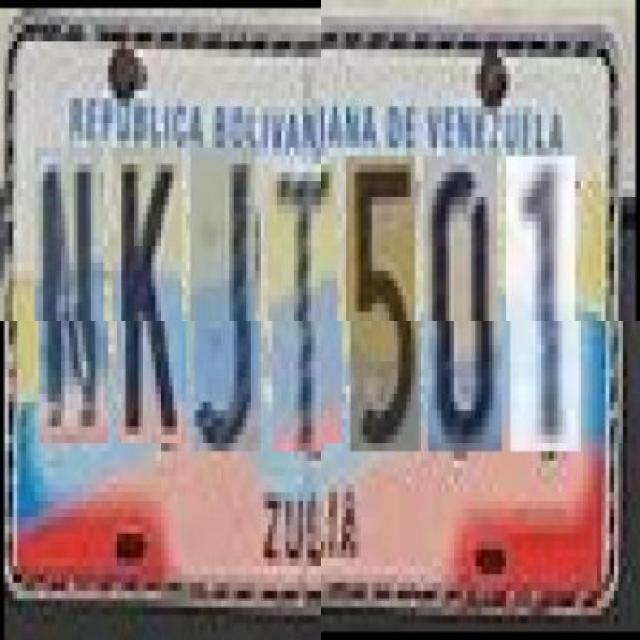0: (428, 164, 502, 461)
1: (510, 164, 579, 461)
5: (350, 164, 419, 461)
j: (195, 147, 259, 451)
k: (117, 147, 186, 444)
n: (40, 147, 109, 444)
t: (272, 164, 342, 451)
